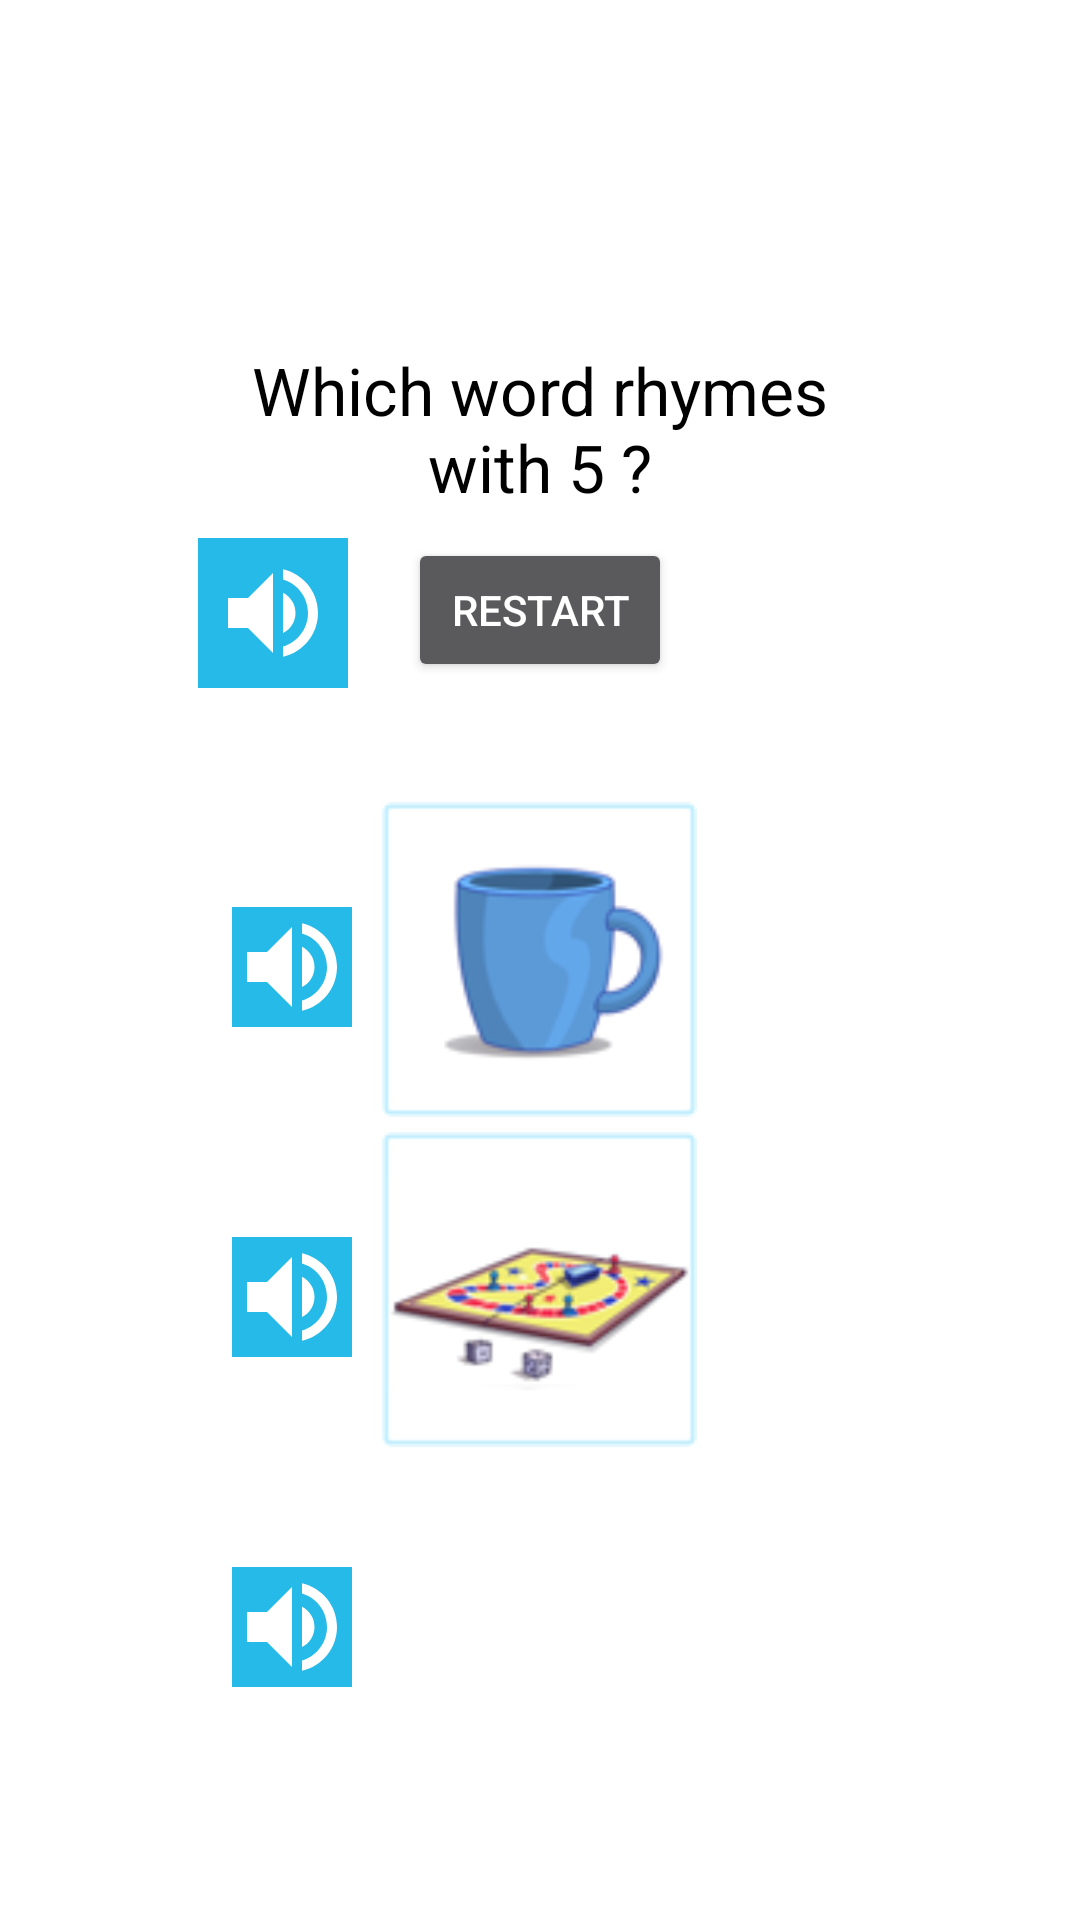

Where to tap for icons on this 1080*1920 app screen, as point (x, y):
volume up: point (273, 613), point (292, 967), point (292, 1297), point (292, 1627)
